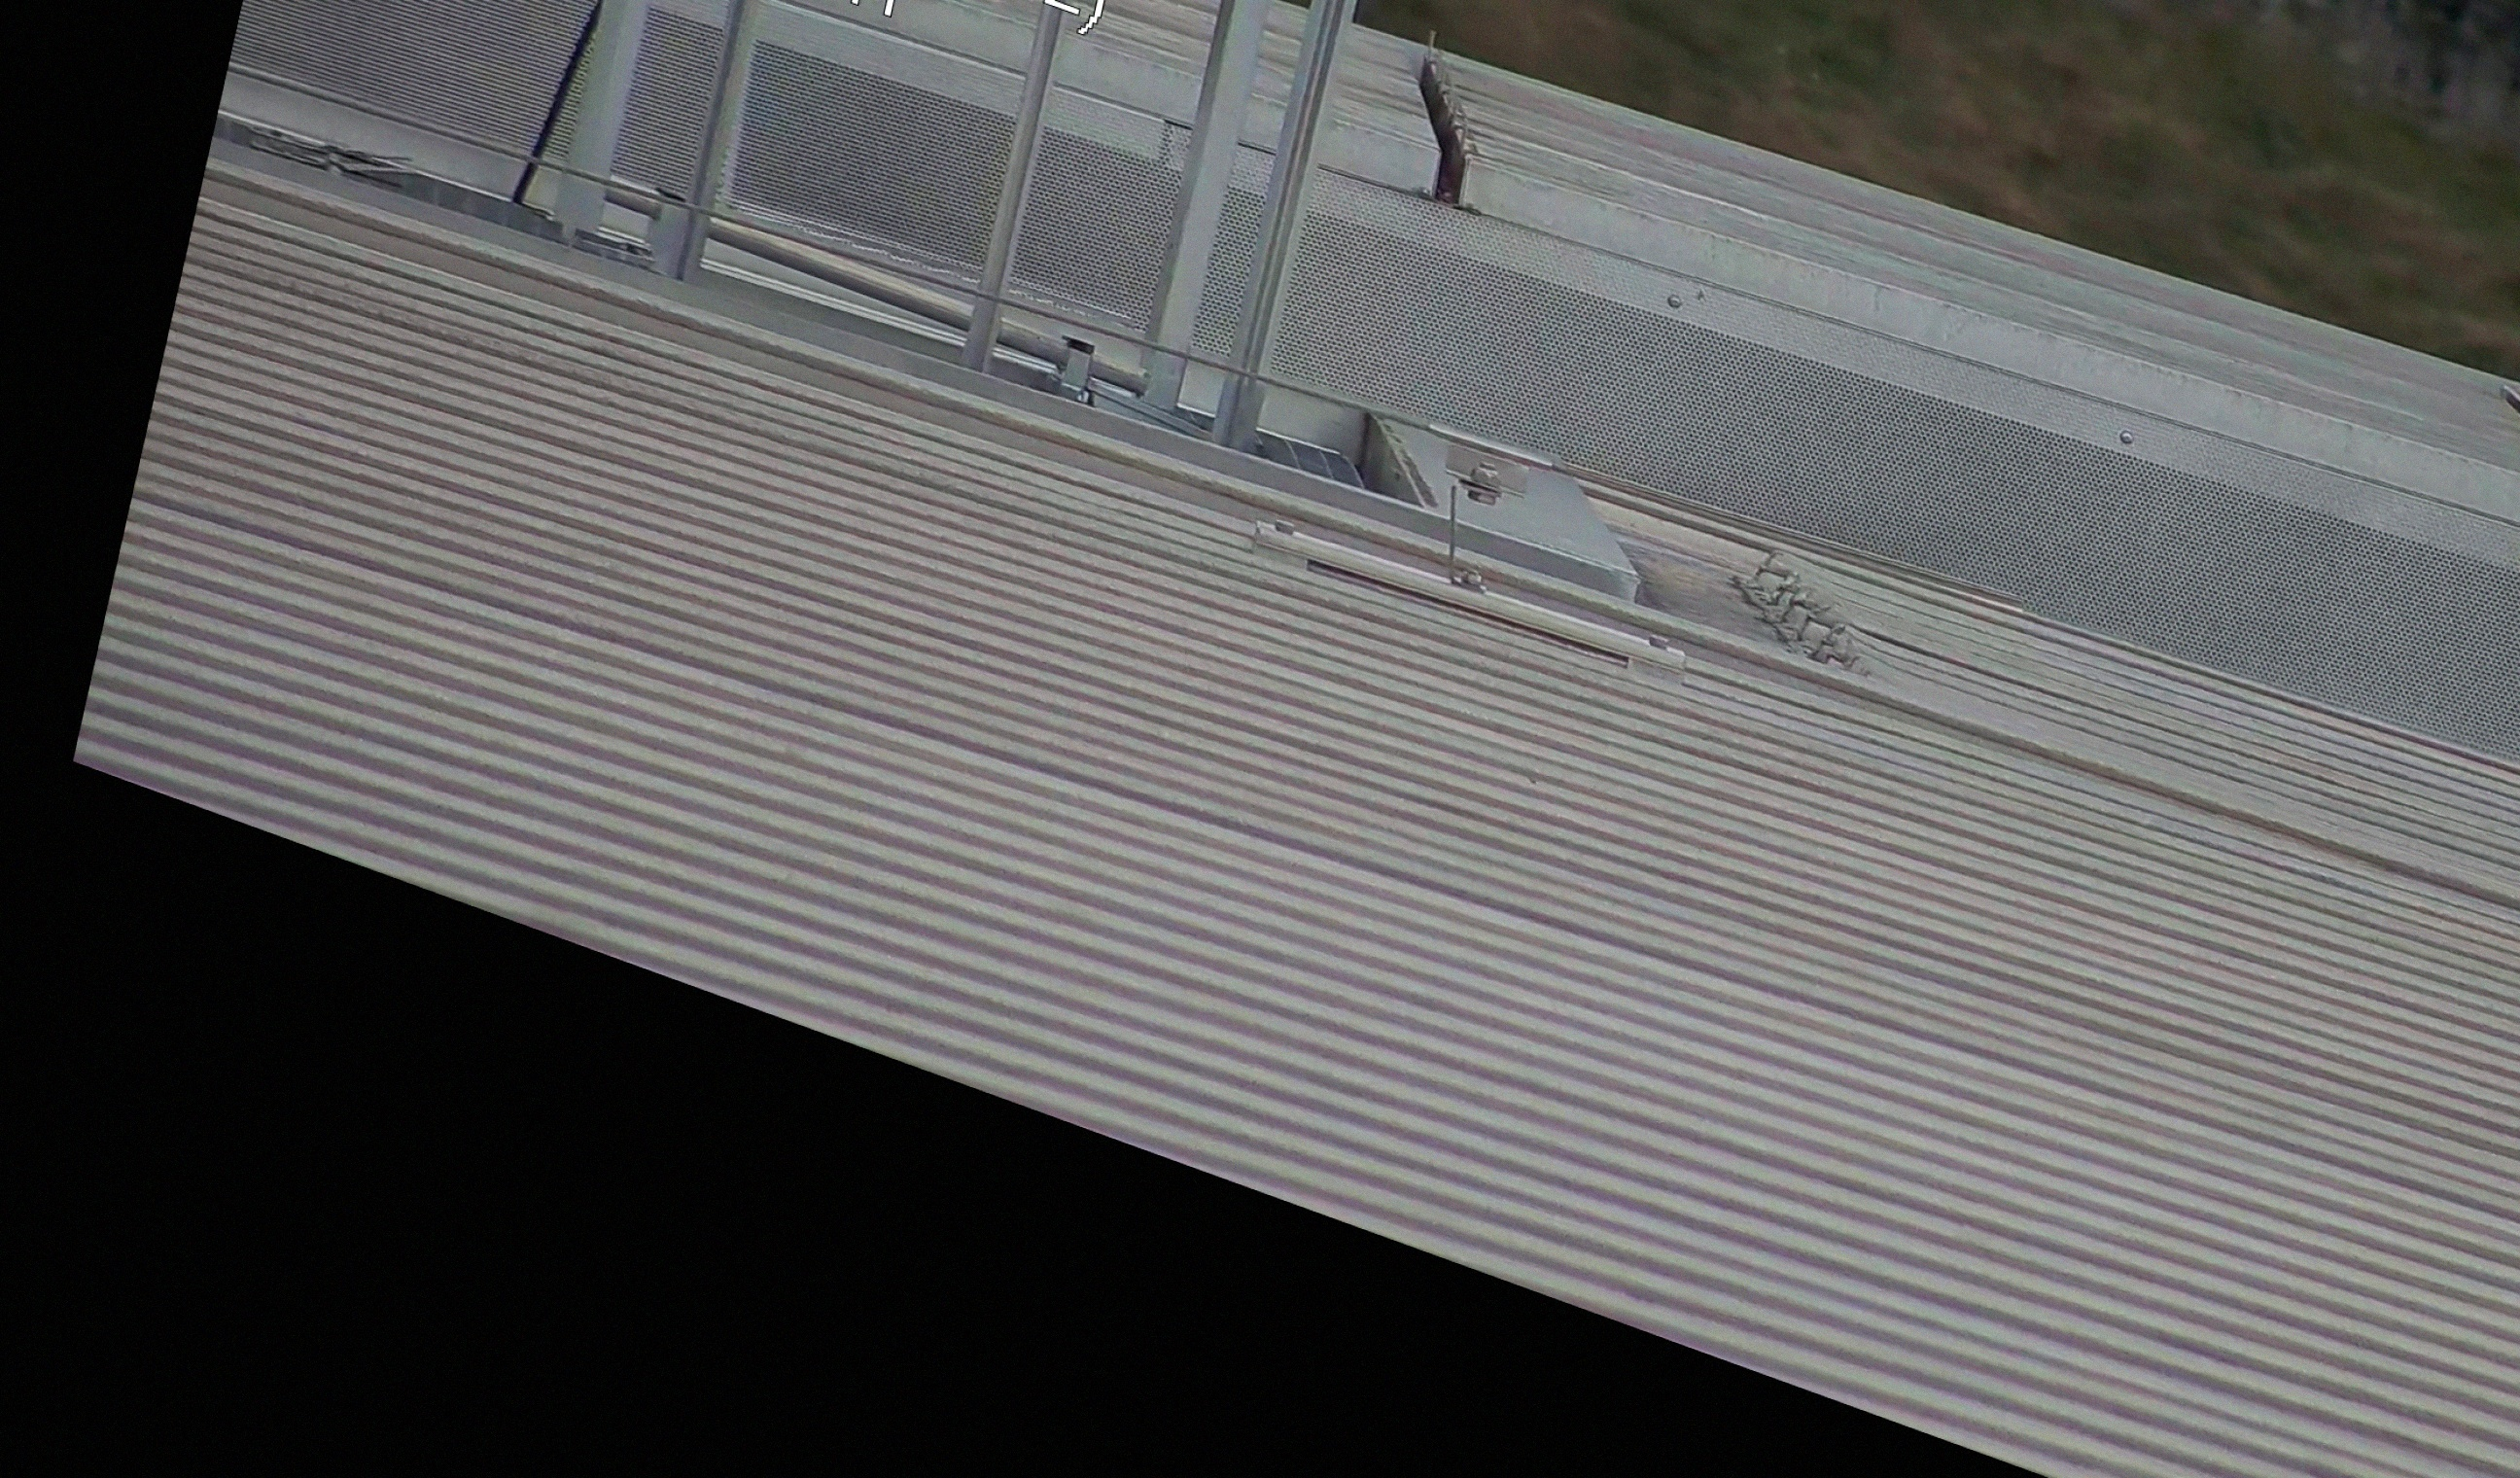Other: (1363, 19, 1507, 216)
